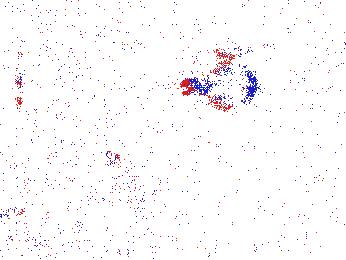flame jellyfish: (180, 61, 262, 108), (101, 149, 152, 219), (1, 167, 32, 218)
